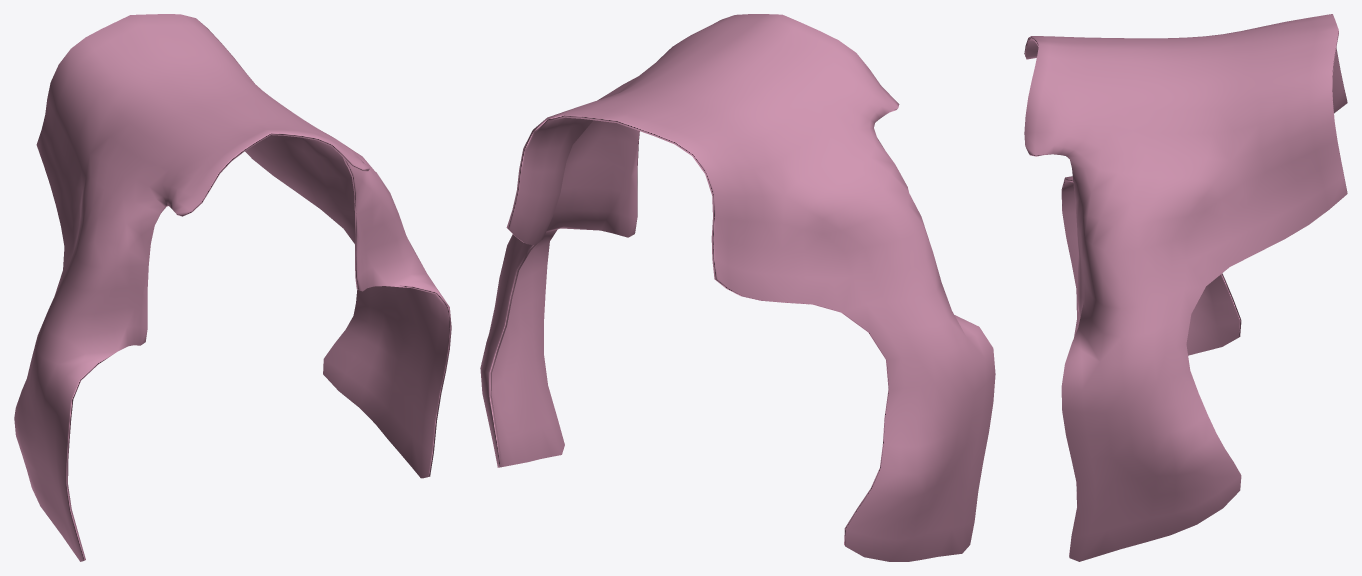
3 views of the same model, side by side, from view 1: azimuth 30°, elevation 25°; view 2: azimuth 150°, elevation 25°; view 3: azimuth 270°, elevation 25° (orthographic). The views are drawn at different scales.
Visible parts, largest first — view 1: 口咽; view 2: 口咽; view 3: 口咽.
Part boxes in pixels (x1,y1,x2,y2): 口咽: (14,14,451,561); 口咽: (480,14,995,561); 口咽: (1024,14,1347,561).
Bounding box in the file's own units: 0.0967 × 0.0986 × 0.0651.
